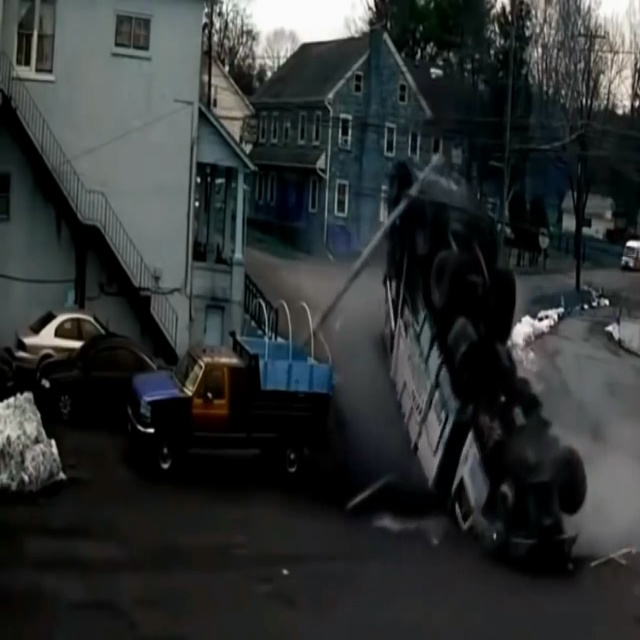acc: (368, 190, 593, 576)
